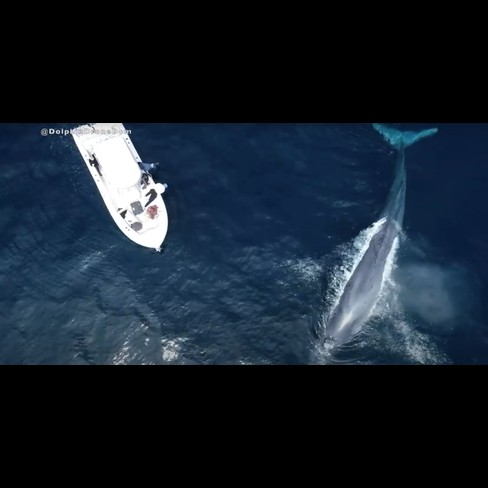bluewhale: (311, 122, 444, 365)
boat: (67, 122, 174, 256)
